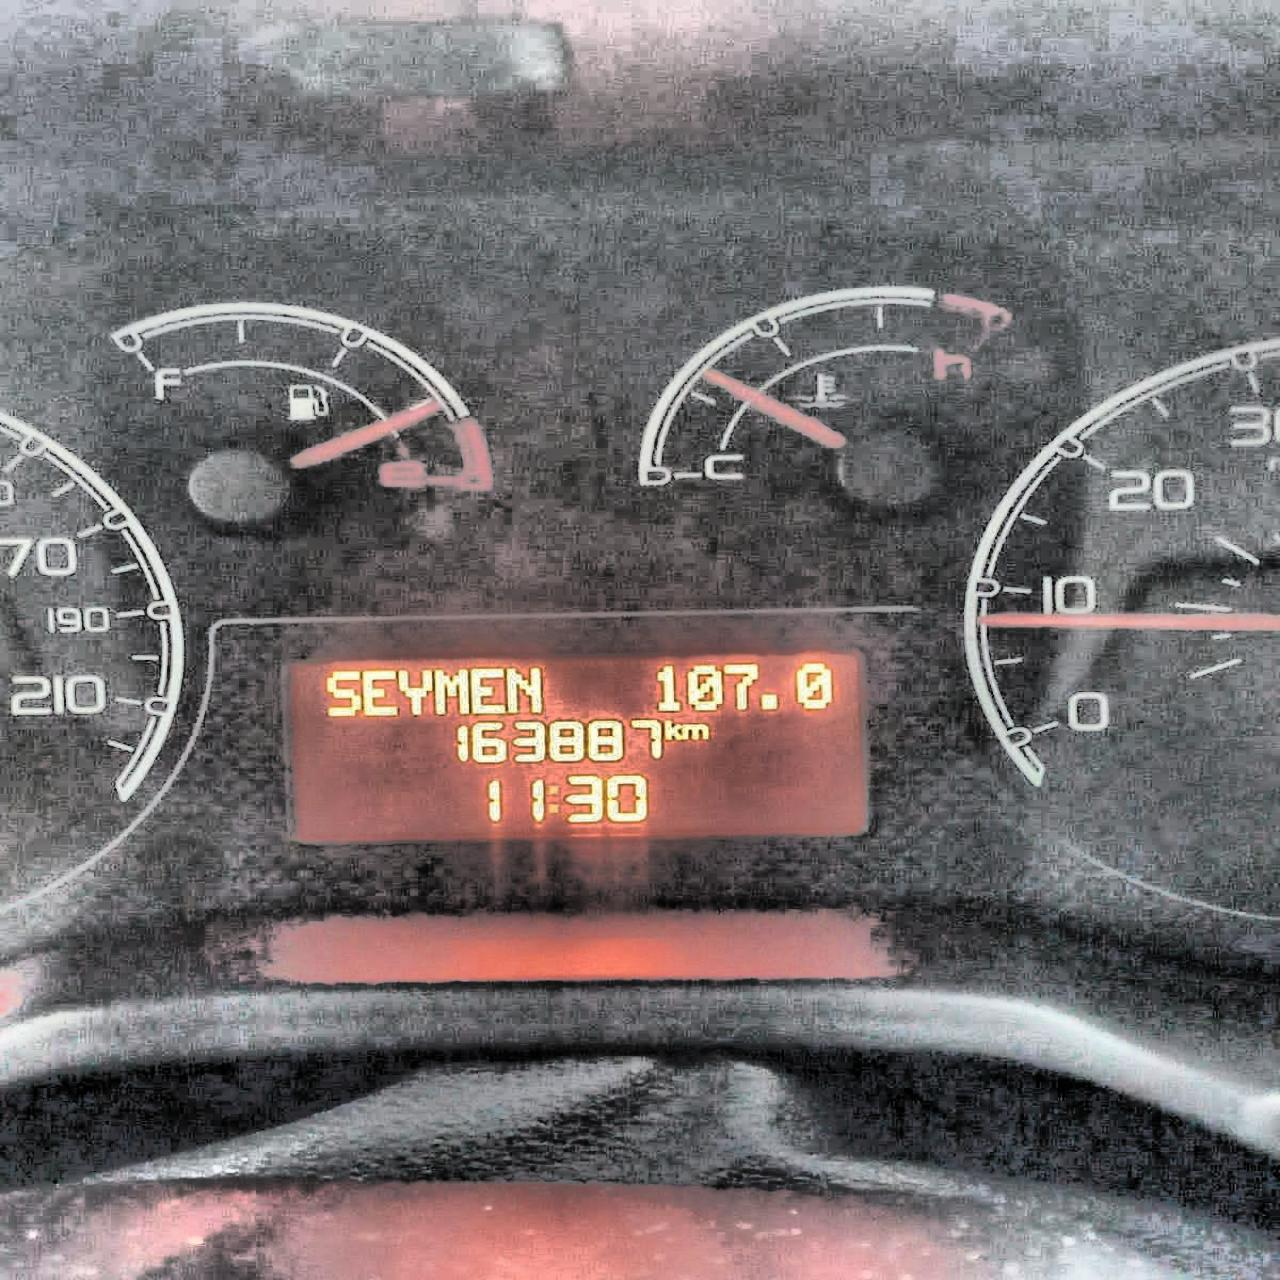-: (760, 693, 778, 709)
0: (605, 775, 647, 823), (794, 661, 833, 709), (686, 663, 722, 710)
1: (655, 663, 679, 712), (529, 778, 545, 821), (485, 779, 502, 822), (455, 724, 470, 762)
3: (564, 774, 604, 823), (510, 721, 545, 762)
6: (470, 721, 505, 763)
7: (722, 662, 758, 709), (628, 719, 662, 760)
8: (586, 719, 624, 761), (549, 721, 585, 762)
X: (468, 667, 505, 715), (396, 669, 434, 715), (360, 669, 396, 716), (433, 667, 468, 715), (505, 666, 540, 713), (326, 669, 360, 717), (682, 722, 708, 740), (663, 719, 681, 741), (547, 784, 560, 813)
odometer: (286, 649, 866, 844)
